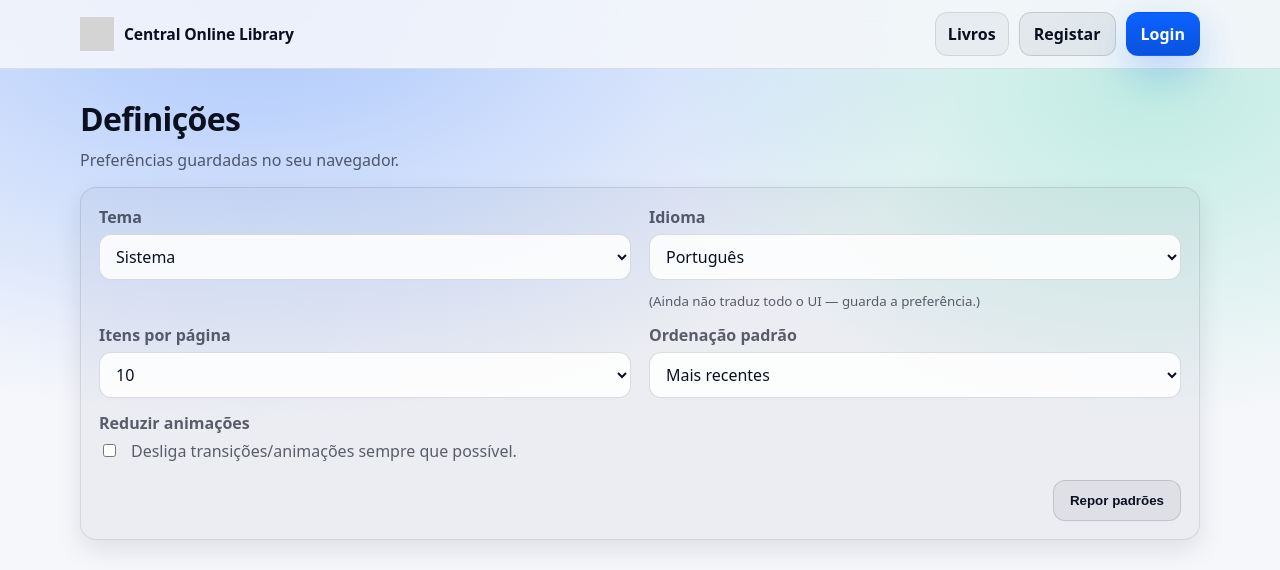
Test: Settings view › switches language to EN and applies html lang
Select "English" in the dropdown labelled "Idioma" at (915, 257), box x1=649 y1=234 x2=1181 y2=280
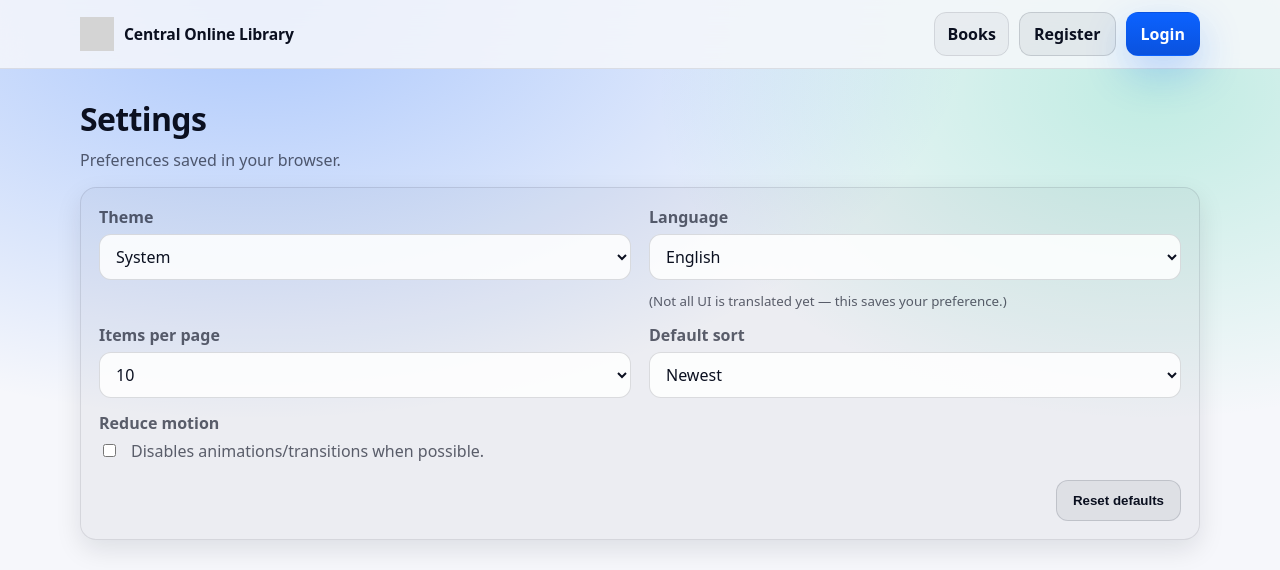
Expected: the dropdown labelled "Theme" is shown, x1=99 y1=234 x2=631 y2=280
Now the heading "Settings" is shown, box x1=80 y1=97 x2=206 y2=140
